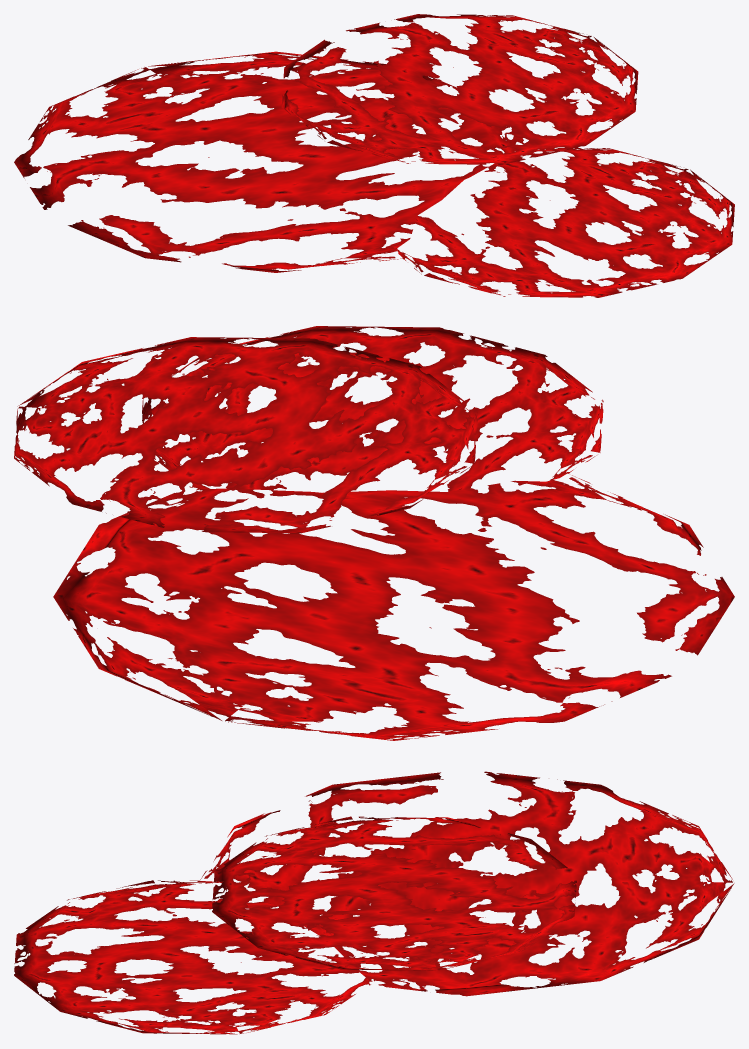
The model's file is blood_staingltf.glb.
The picture shows the model from 3 angles, top to bottom: view 1: azimuth 30°, elevation 25°; view 2: azimuth 150°, elevation 25°; view 3: azimuth 270°, elevation 25°; orthographic projection. The views are drawn at different scales.
Visible parts, largest first — view 1: CSGCombiner3D2; view 2: CSGCombiner3D2; view 3: CSGCombiner3D2.
Part boxes in pixels (bbox=[...]): CSGCombiner3D2: bbox=[14, 14, 734, 297]; CSGCombiner3D2: bbox=[14, 326, 734, 740]; CSGCombiner3D2: bbox=[14, 771, 734, 1034].
Bounding box in the file's own units: 1.17 × 0.141 × 1.34.
Materials: 1 (1 with a texture image).
